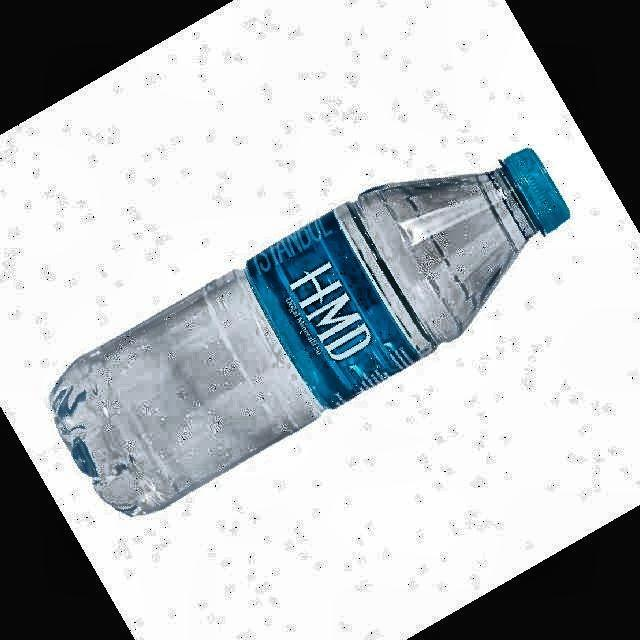plastic: (50, 149, 569, 514)
